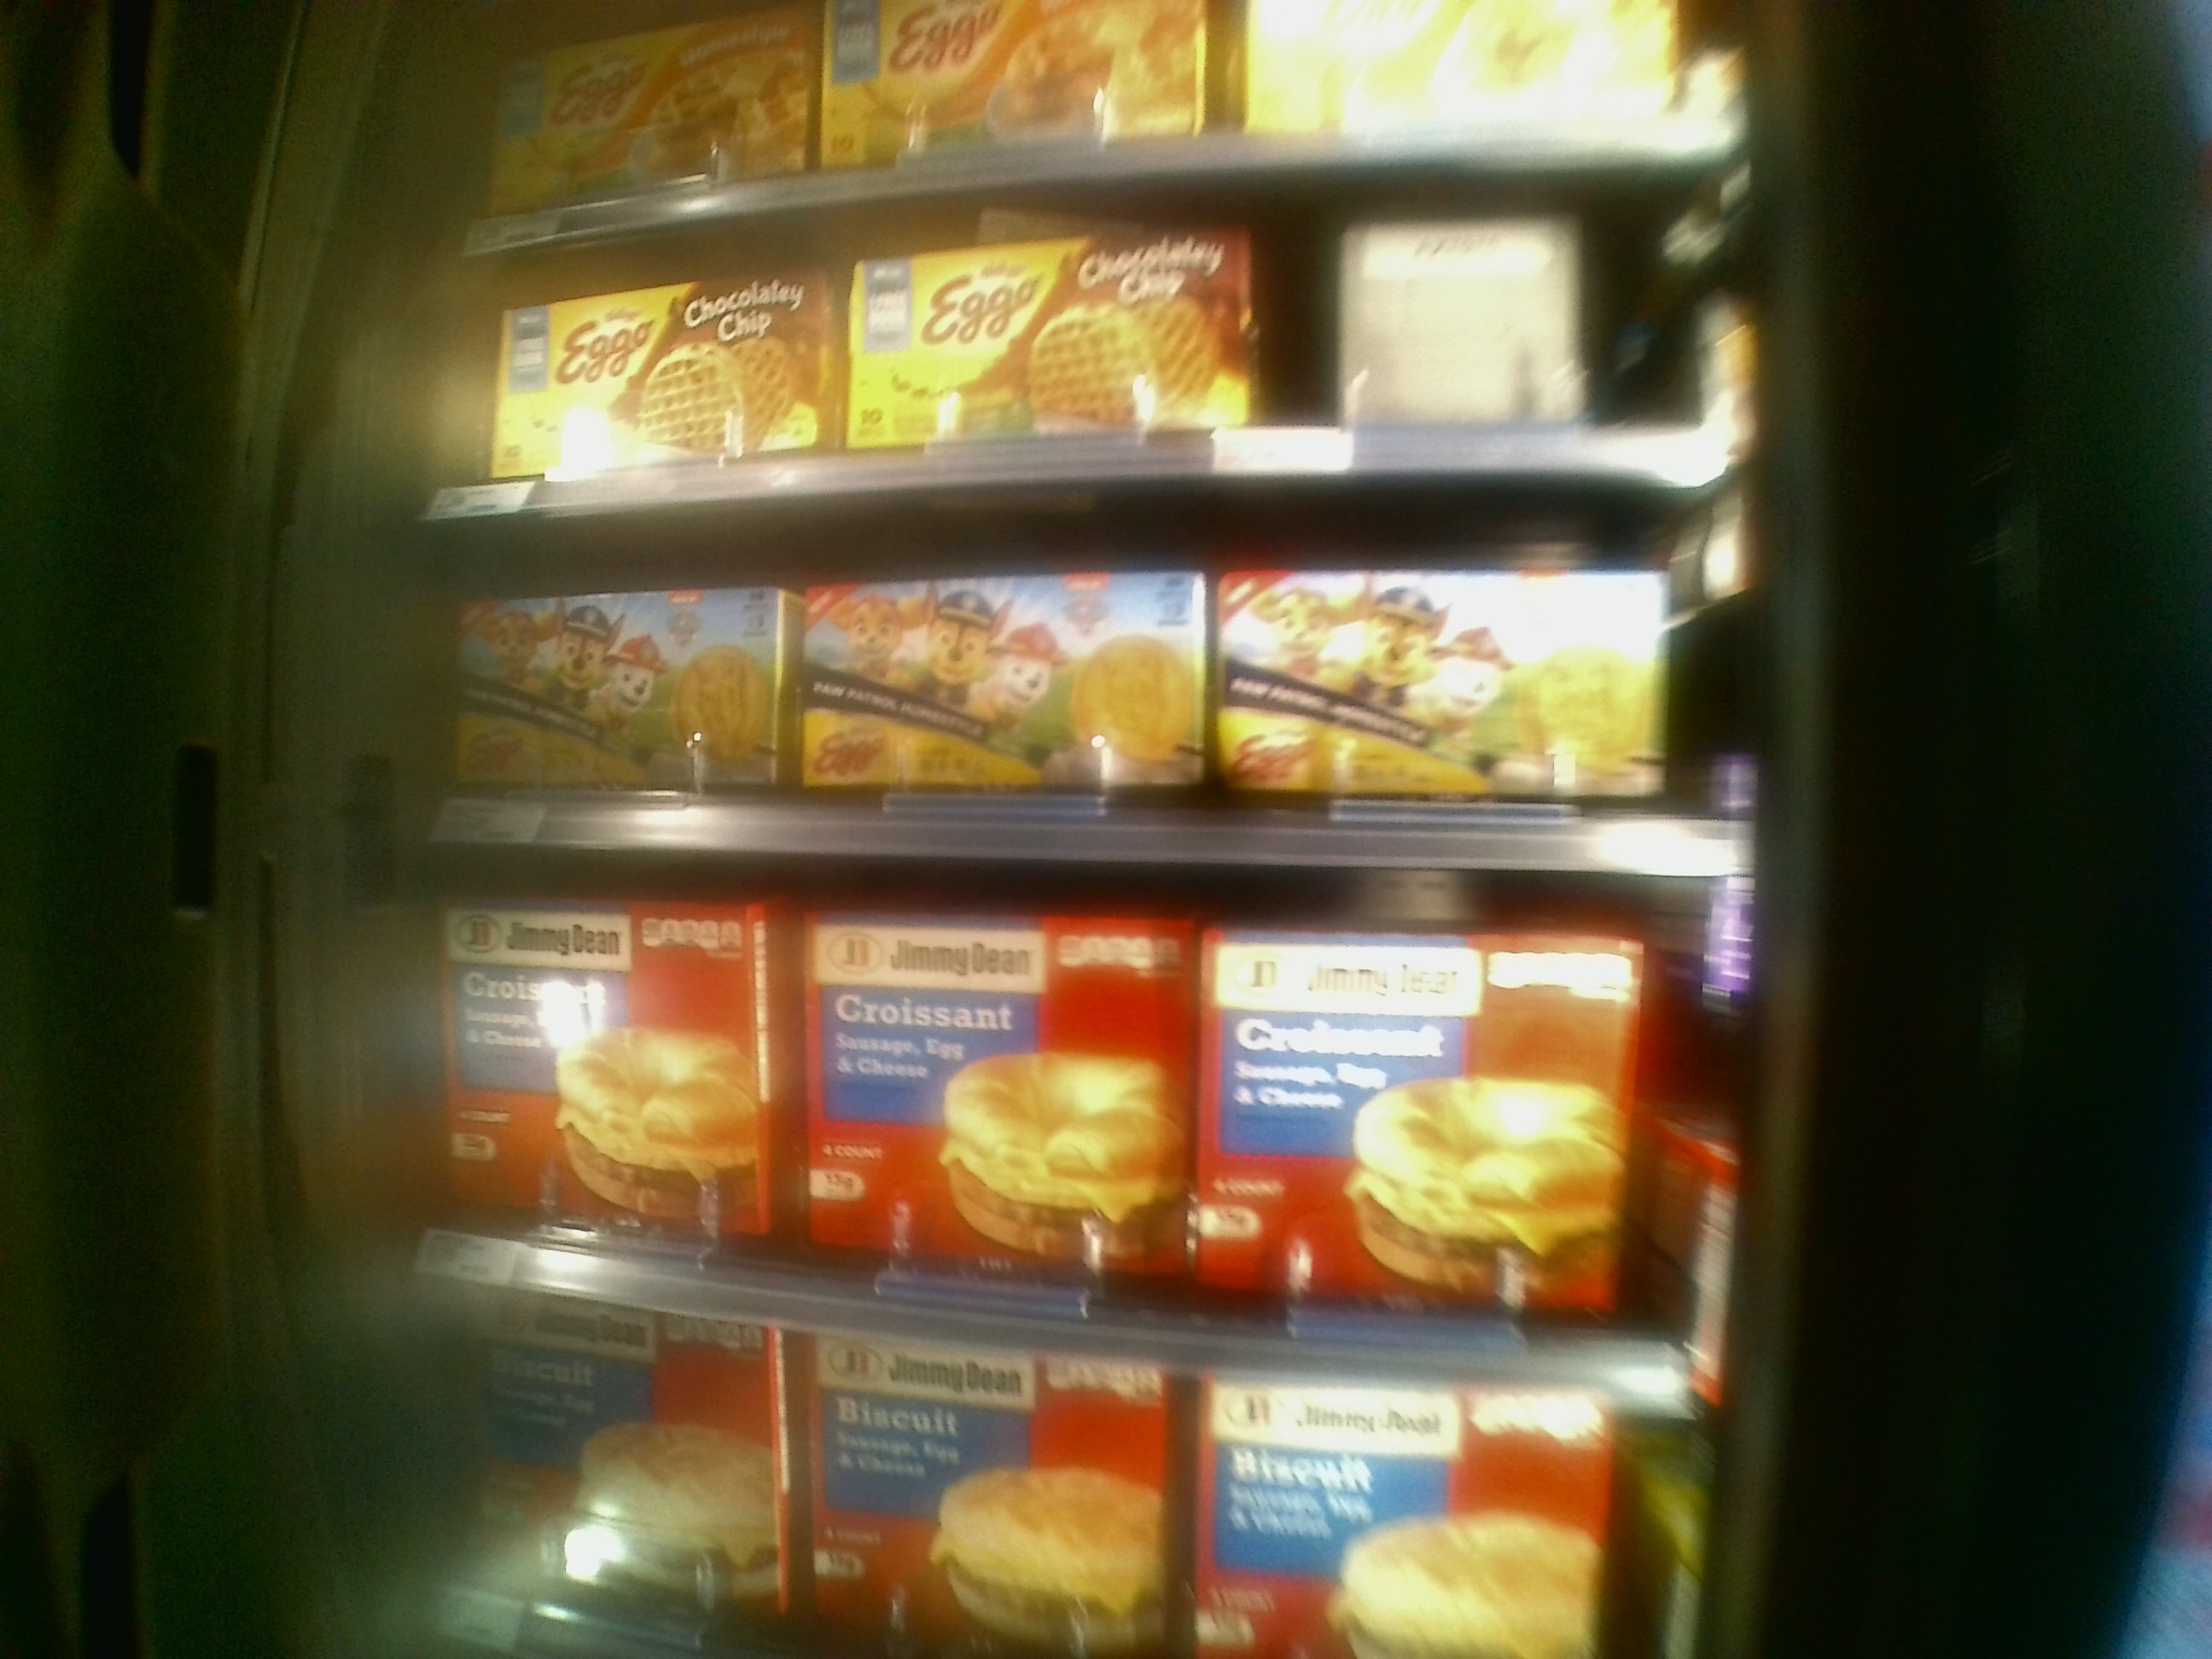shelf: (427, 842, 1743, 1371), (416, 483, 1754, 864)
